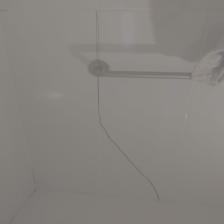Medium: (88, 78, 183, 207)
